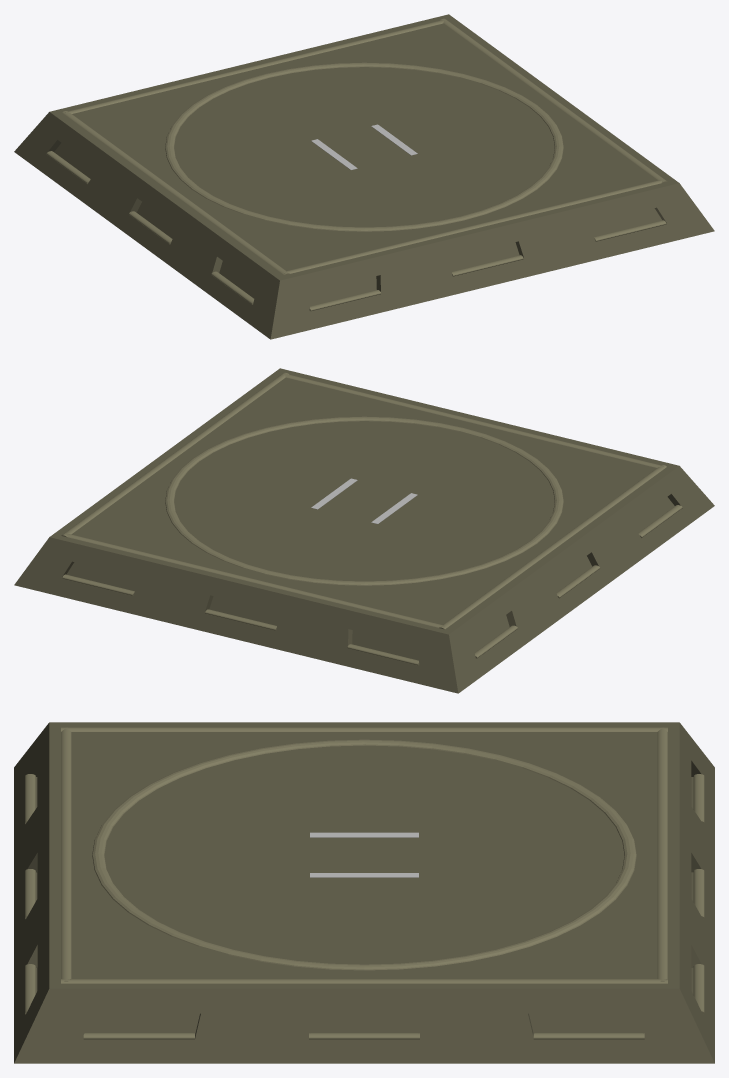
Rendered from s_stage.gltf.
3 renders of one model, top to bottom at view 1: azimuth 30°, elevation 25°; view 2: azimuth 150°, elevation 25°; view 3: azimuth 270°, elevation 25°, orthographic. The views are drawn at different scales.
Visible parts, largest first — view 1: Pit, Rope, Markers; view 2: Pit, Rope, Markers; view 3: Pit, Rope, Markers.
Boxes of the visible parts, x1=… form: Pit: x1=14, y1=14, x2=714, y2=339; Rope: x1=46, y1=18, x2=667, y2=310; Markers: x1=311, y1=124, x2=417, y2=169; Pit: x1=14, y1=368, x2=714, y2=693; Rope: x1=61, y1=372, x2=682, y2=665; Markers: x1=311, y1=478, x2=417, y2=523; Pit: x1=14, y1=722, x2=714, y2=1063; Rope: x1=25, y1=727, x2=704, y2=1039; Markers: x1=310, y1=832, x2=418, y2=877.
Size of what is drawn, in the model's own units: 6.71 by 0.66 by 6.71.
